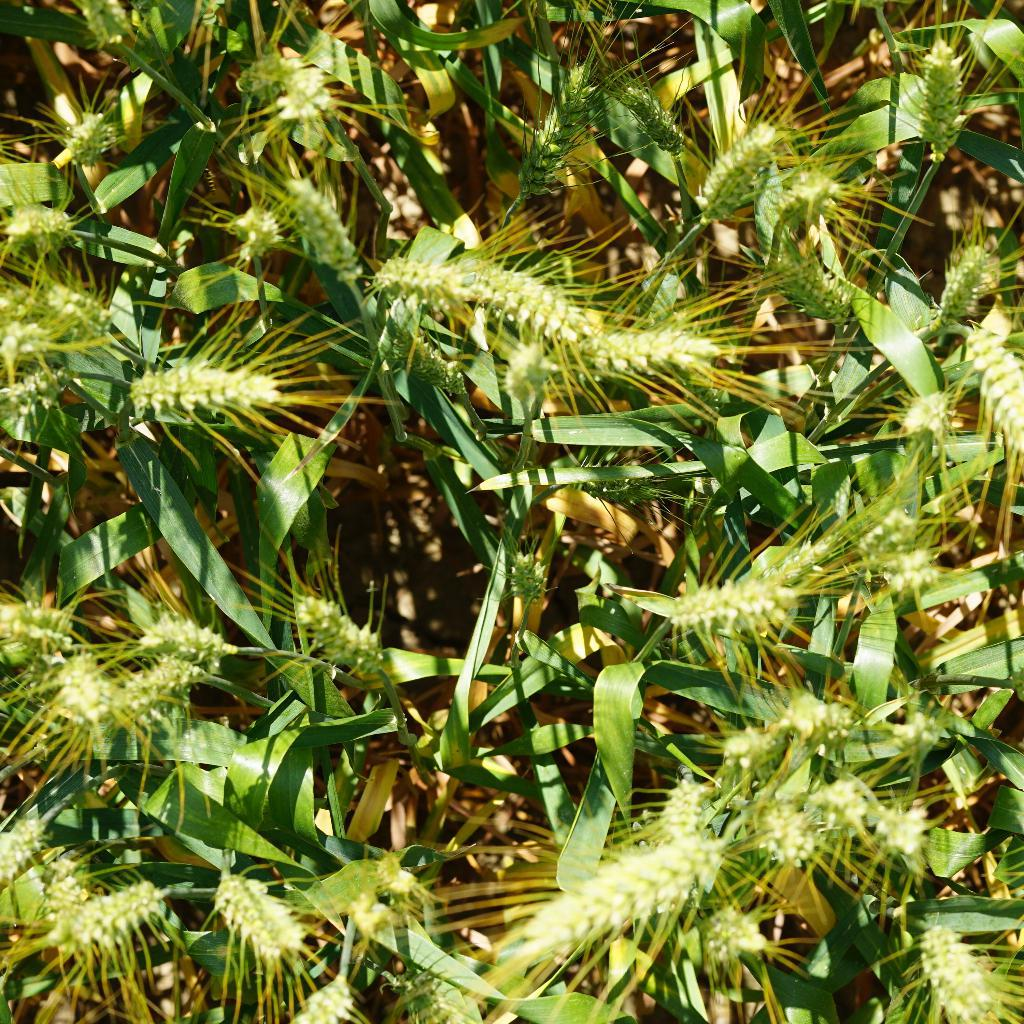0-0: (456, 843, 721, 967), (286, 580, 408, 699), (512, 51, 605, 195), (544, 324, 755, 387), (456, 260, 597, 343), (111, 354, 291, 419), (688, 115, 793, 224), (197, 860, 306, 960), (914, 918, 1013, 1024), (658, 568, 799, 640), (275, 183, 374, 277), (756, 237, 856, 325), (965, 311, 1024, 460), (563, 451, 685, 523), (901, 23, 965, 159), (664, 316, 735, 434), (139, 598, 253, 671), (51, 878, 167, 949), (0, 584, 98, 660), (120, 651, 219, 722), (473, 336, 563, 411), (48, 654, 122, 743), (369, 247, 475, 309), (33, 273, 120, 348), (687, 903, 788, 967), (0, 203, 98, 264), (768, 687, 866, 748), (269, 961, 363, 1024), (761, 171, 856, 232), (611, 78, 688, 153), (894, 384, 964, 466), (336, 867, 413, 940), (935, 235, 993, 331), (639, 763, 707, 844), (486, 538, 559, 612), (38, 845, 102, 929), (265, 51, 333, 129), (0, 802, 56, 894), (750, 789, 815, 867), (392, 336, 466, 400), (408, 960, 477, 1024), (232, 38, 299, 102), (803, 769, 864, 838), (698, 724, 778, 776), (860, 799, 940, 851), (0, 363, 67, 423), (871, 545, 944, 600), (849, 494, 915, 553), (882, 702, 944, 763), (759, 534, 829, 586), (63, 108, 119, 161), (227, 202, 279, 257), (76, 0, 141, 43)
